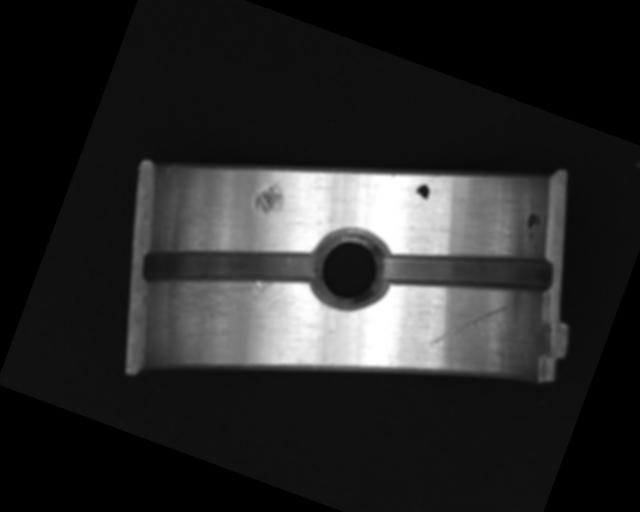blot: (520, 210, 544, 241), (412, 181, 433, 207)
bruise: (250, 173, 292, 219)
gap: (138, 200, 321, 335), (377, 208, 558, 335)
hole: (303, 219, 397, 318)
nick: (427, 283, 509, 369)
scratch: (143, 240, 300, 372)
